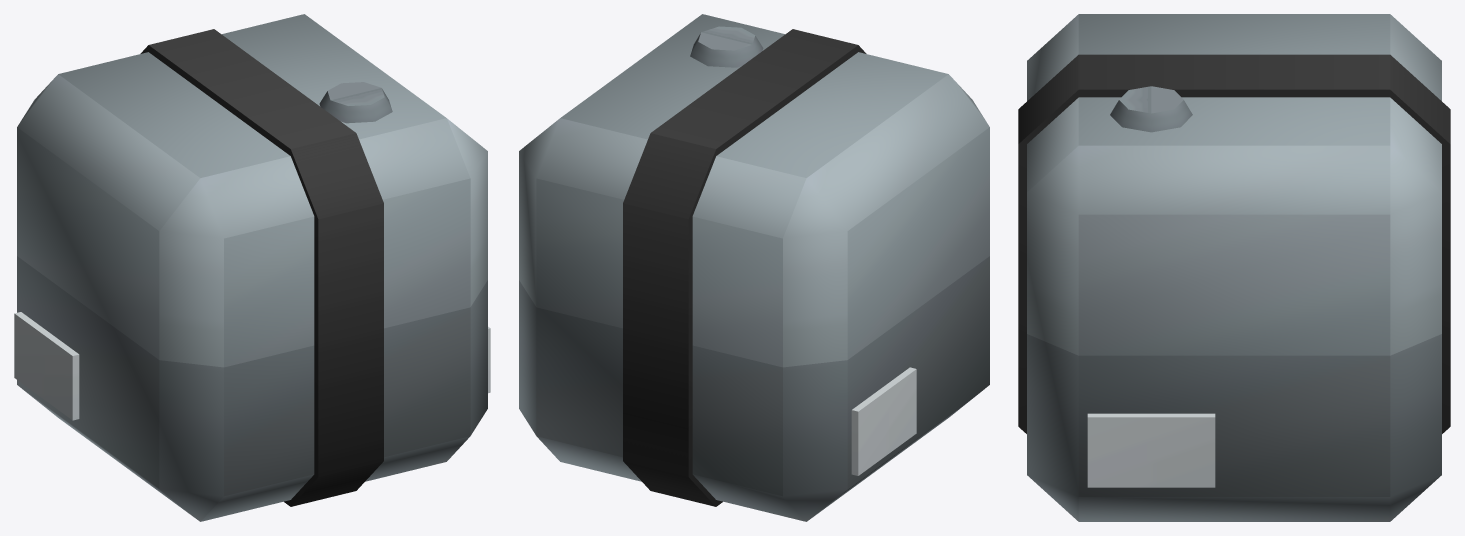
File: cargo_B_packed.glb
3 views of the same model, side by side, from view 1: azimuth 30°, elevation 25°; view 2: azimuth 150°, elevation 25°; view 3: azimuth 270°, elevation 25° (orthographic). The views are drawn at different scales.
Parts seen in each view (by area): view 1: cargo_B_packed; view 2: cargo_B_packed; view 3: cargo_B_packed.
Part boxes in pixels (x1,y1,x2,y2): cargo_B_packed: [14, 14, 490, 521]; cargo_B_packed: [519, 14, 989, 521]; cargo_B_packed: [1018, 14, 1450, 521].
Bounding box in the file's own units: 0.5205 × 0.5303 × 0.5205.
Materials: 1 (1 with a texture image).
